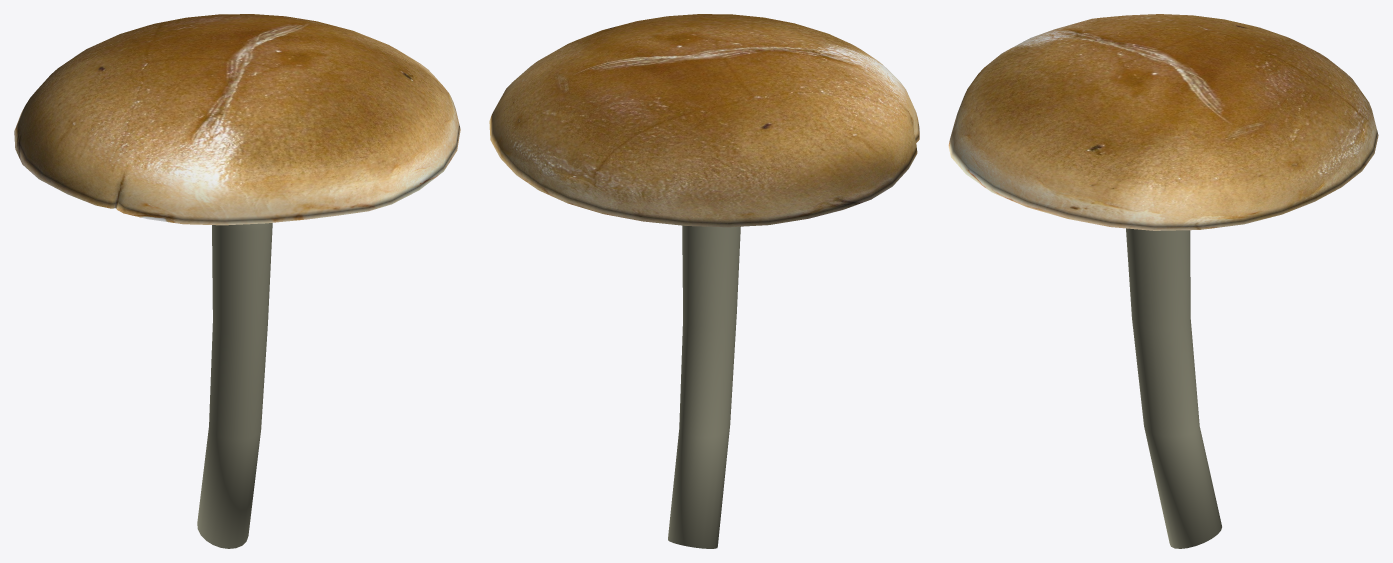
Rendered from Plant10.fbx.
The picture shows the model from 3 angles, left to right: view 1: azimuth 30°, elevation 25°; view 2: azimuth 150°, elevation 25°; view 3: azimuth 270°, elevation 25°; orthographic projection. The views are drawn at different scales.
Parts seen in each view (by area): view 1: Sphere, Cylinder; view 2: Sphere, Cylinder; view 3: Sphere, Cylinder.
Boxes of the visible parts, <box> form: Sphere: <box>14,14,460,225</box>; Cylinder: <box>197,223,272,548</box>; Sphere: <box>489,14,919,227</box>; Cylinder: <box>668,225,740,548</box>; Sphere: <box>948,14,1378,230</box>; Cylinder: <box>1126,228,1221,548</box>.
Bounding box in the file's own units: 8.77 × 10.6 × 8.46.
